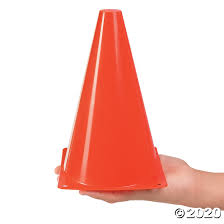cones: (58, 10, 168, 190)
